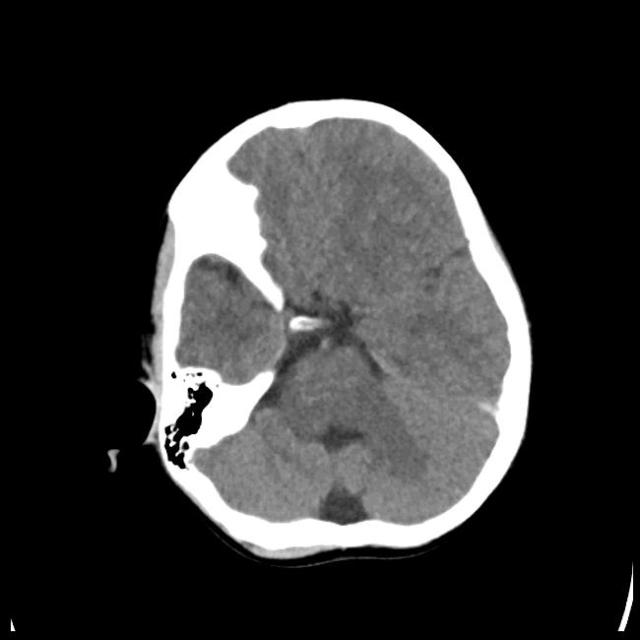lesion: (134, 97, 535, 562)
